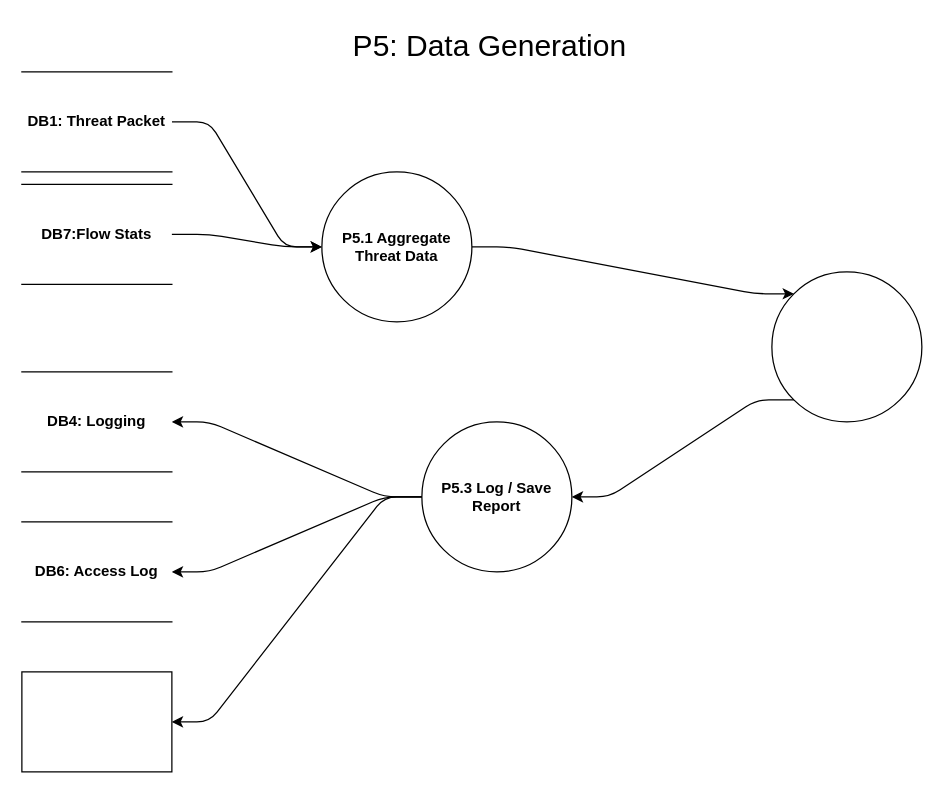
Image size: 944x794. Some labels were removed from this diagram. The shapes that lost their labels are listed below. From the top down, each one's box as (x1, y1, x2, y2) in pixels, then its label:
(771, 271, 922, 422): P5.2 Format Report
(21, 671, 172, 772): User Interface
